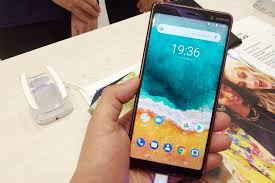nokia: (124, 2, 233, 177)
